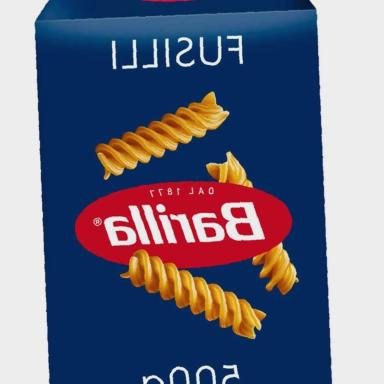pasta package: (36, 0, 330, 383)
